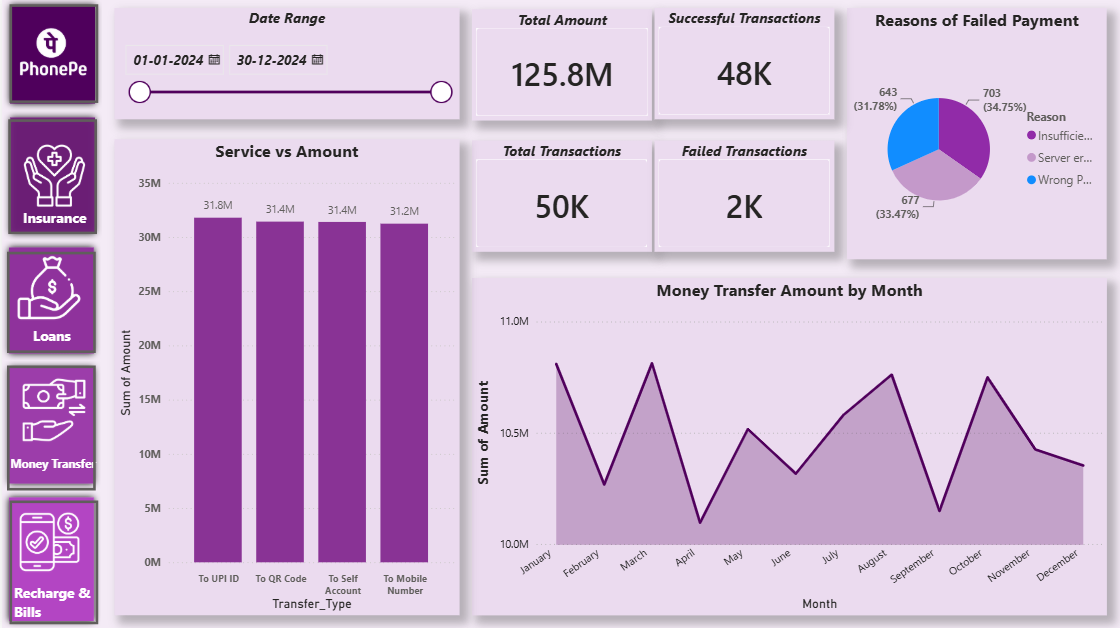

Layout of this report page (visuals, bound fields, positions):
{"tool":"powerbi","page":{"name":"Money Transfer","canvas":[1280,720],"ordinal":3},"visuals":[{"type":"shape","box":[1.4,0,112.9,128.6],"z":0,"group":"g4"},{"type":"slicer","title":"Date Range","fields":{"Values":["Money_Transfer.Date"]},"box":[128.6,11.4,394.3,127.1],"z":0},{"type":"cardVisual","title":"Total Amount","fields":{"Data":["Sum(Money_Transfer.Amount)"]},"box":[537.1,12.9,205.7,127.1],"z":1000},{"type":"shape","box":[1.4,128.6,112.9,148.6],"z":1000,"group":"g1"},{"type":"cardVisual","title":"Total Transactions","fields":{"Data":["Count(Money_Transfer.Transaction_ID)"]},"box":[537.1,162.9,205.7,127.1],"z":2000},{"type":"shape","box":[0,277.1,112.9,137.1],"z":2000,"group":"g2"},{"type":"cardVisual","title":"Failed Transactions","fields":{"Data":["Count(Money_Transfer.Transaction_ID)"]},"box":[745.7,162.9,205.7,127.1],"z":3000},{"type":"shape","box":[0,414.3,112.9,148.6],"z":3000,"group":"g5"},{"type":"pieChart","title":"Reasons of Failed Payment","fields":{"Category":["Money_Transfer.Reason"],"Y":["CountNonNull(Money_Transfer.Reason)"]},"box":[965.7,11.4,297.1,287.1],"z":4000},{"type":"shape","box":[0,562.8,112.9,157.1],"z":4000,"group":"g3"},{"type":"image","box":[17.1,152.9,85.7,100],"z":5000,"group":"g1"},{"type":"lineChart","title":"Money Transfer Amount by Month","fields":{"Y":["Sum(Money_Transfer.Amount)"],"Category":["Money_Transfer.Date.Variation.Date Hierarchy.Month"]},"box":[537.1,320,725.7,385.7],"z":5000},{"type":"group","id":"g1","title":"Group 1","box":[1.4,128.6,150,148.6],"z":6000},{"type":"image","box":[14.3,290,81.4,80],"z":6000,"group":"g2"},{"type":"group","id":"g2","title":"Group 2","box":[0,277.1,167.1,137.1],"z":7000},{"type":"image","box":[14.3,580,80,82.9],"z":7000,"group":"g3"},{"type":"image","box":[17.7,7.8,82.2,112.2],"z":8000,"group":"g4"},{"type":"group","id":"g3","title":"Group 4","box":[0,161.4,522.9,558.6],"z":8000},{"type":"group","id":"g4","title":"Group 5","box":[1.4,0,112.9,128.6],"z":9000},{"type":"image","box":[18.6,427.1,81.4,87.1],"z":9000,"group":"g5"},{"type":"actionButton","box":[7.1,138.6,101.4,131.4],"z":10000},{"type":"textbox","box":[1.4,234.3,150,35.7],"z":10000,"group":"g1"},{"type":"actionButton","box":[5.7,290,101.4,115.7],"z":11000},{"type":"textbox","box":[8.6,662.8,101.4,52.9],"z":11000,"group":"g3"},{"type":"actionButton","box":[5.7,420,101.4,142.9],"z":12000},{"type":"textbox","box":[0,514.3,167.1,35.7],"z":12000,"group":"g5"},{"type":"textbox","box":[17.1,370,150,35.7],"z":13000,"group":"g2"},{"type":"actionButton","box":[8.6,574.3,101.4,141.4],"z":13000},{"type":"cardVisual","title":"Successful Transactions","fields":{"Data":["Count(Money_Transfer.Transaction_ID)"]},"box":[745.7,11.4,205.7,127.1],"z":14000},{"type":"columnChart","title":"Service vs Amount","fields":{"Category":["Money_Transfer.Transfer_Type"],"Y":["Sum(Money_Transfer.Amount)"]},"box":[128.6,161.4,394.3,544.3],"z":21000,"group":"g5"},{"type":"group","id":"g5","title":"Group 3","box":[0,161.4,522.9,544.3],"z":21003,"group":"g3"},{"type":"actionButton","box":[7.9,7.1,101.4,112.9],"z":21006,"group":"g4"}]}

Visuals, with their boxes in screenshot pixels (x1, y1, x2, y2), scaled from the page's 1280x720 canvas onto the 1120x628 screenshot:
shape: rect(1, 0, 100, 112)
"Date Range" slicer: rect(113, 10, 458, 121)
"Total Amount" cardVisual: rect(470, 11, 650, 122)
shape: rect(1, 112, 100, 242)
"Total Transactions" cardVisual: rect(470, 142, 650, 253)
shape: rect(0, 242, 99, 361)
"Failed Transactions" cardVisual: rect(652, 142, 832, 253)
shape: rect(0, 361, 99, 491)
"Reasons of Failed Payment" pieChart: rect(845, 10, 1105, 260)
shape: rect(0, 491, 99, 627)
image: rect(15, 133, 90, 221)
"Money Transfer Amount by Month" lineChart: rect(470, 279, 1105, 616)
"Group 1" group: rect(1, 112, 132, 242)
image: rect(13, 253, 84, 323)
"Group 2" group: rect(0, 242, 146, 361)
image: rect(13, 506, 83, 578)
image: rect(15, 7, 87, 105)
"Group 4" group: rect(0, 141, 458, 627)
"Group 5" group: rect(1, 0, 100, 112)
image: rect(16, 373, 88, 448)
actionButton: rect(6, 121, 95, 236)
textbox: rect(1, 204, 132, 236)
actionButton: rect(5, 253, 94, 354)
textbox: rect(8, 578, 96, 624)
actionButton: rect(5, 366, 94, 491)
textbox: rect(0, 449, 146, 480)
textbox: rect(15, 323, 146, 354)
actionButton: rect(8, 501, 96, 624)
"Successful Transactions" cardVisual: rect(652, 10, 832, 121)
"Service vs Amount" columnChart: rect(113, 141, 458, 616)
"Group 3" group: rect(0, 141, 458, 616)
actionButton: rect(7, 6, 96, 105)
